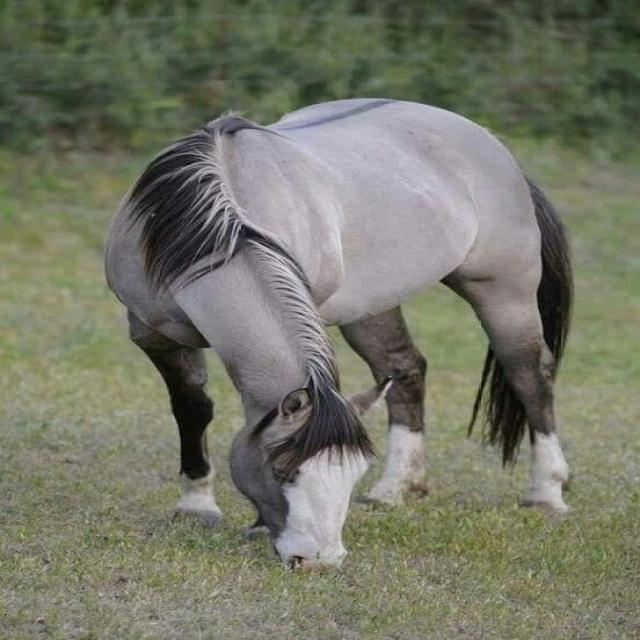horse: (102, 96, 575, 574)
